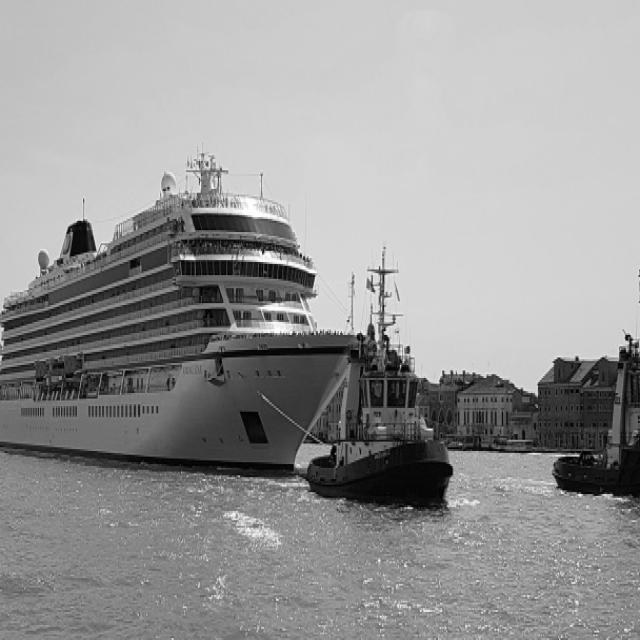cruises: (1, 151, 365, 488)
